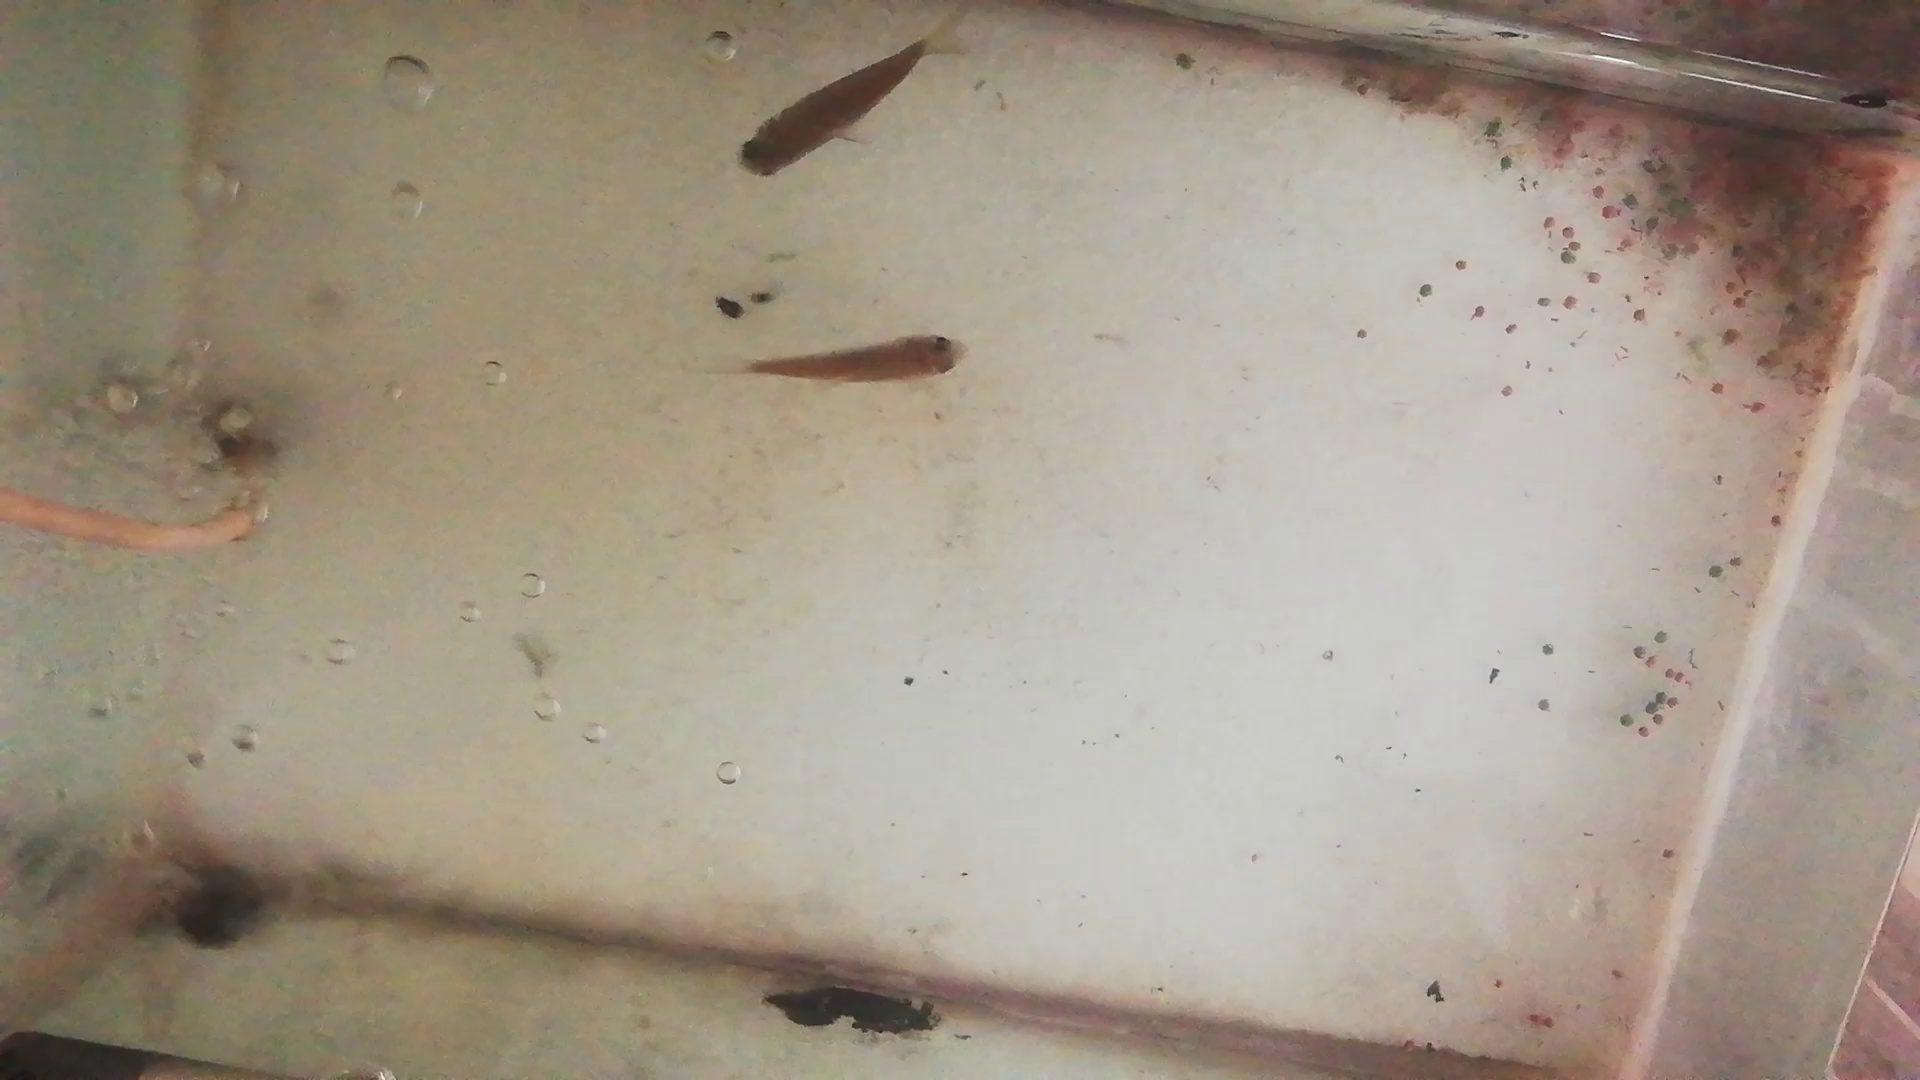fish: (731, 44, 927, 175), (752, 332, 967, 386)
